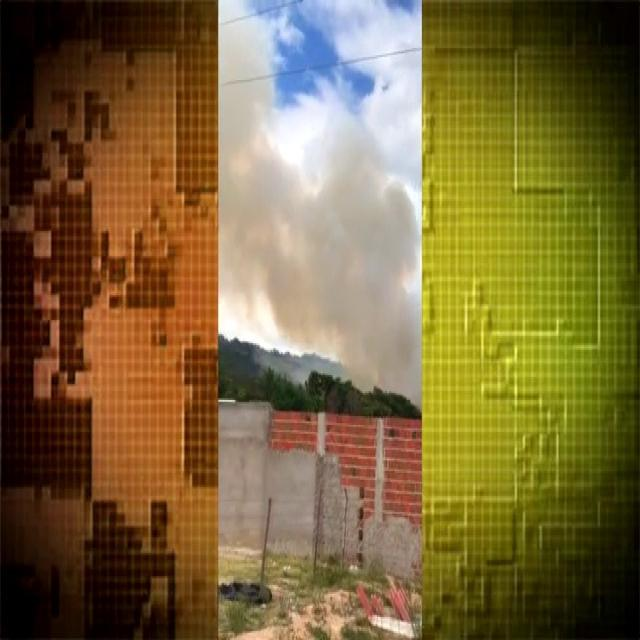Smoke: (212, 21, 422, 418)
